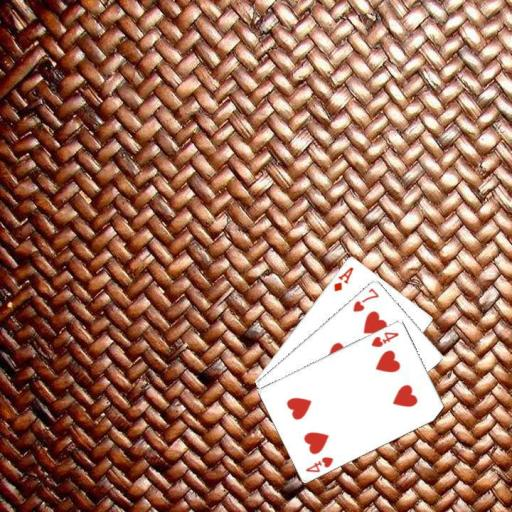4H: (302, 453, 335, 474), (369, 329, 401, 349)
7H: (350, 284, 380, 313)
AD: (331, 263, 355, 293)
